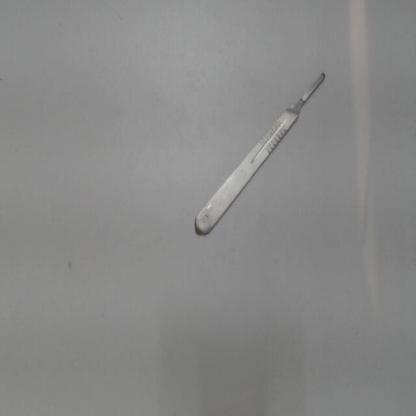No.4 BP Handle: (180, 61, 334, 250)
